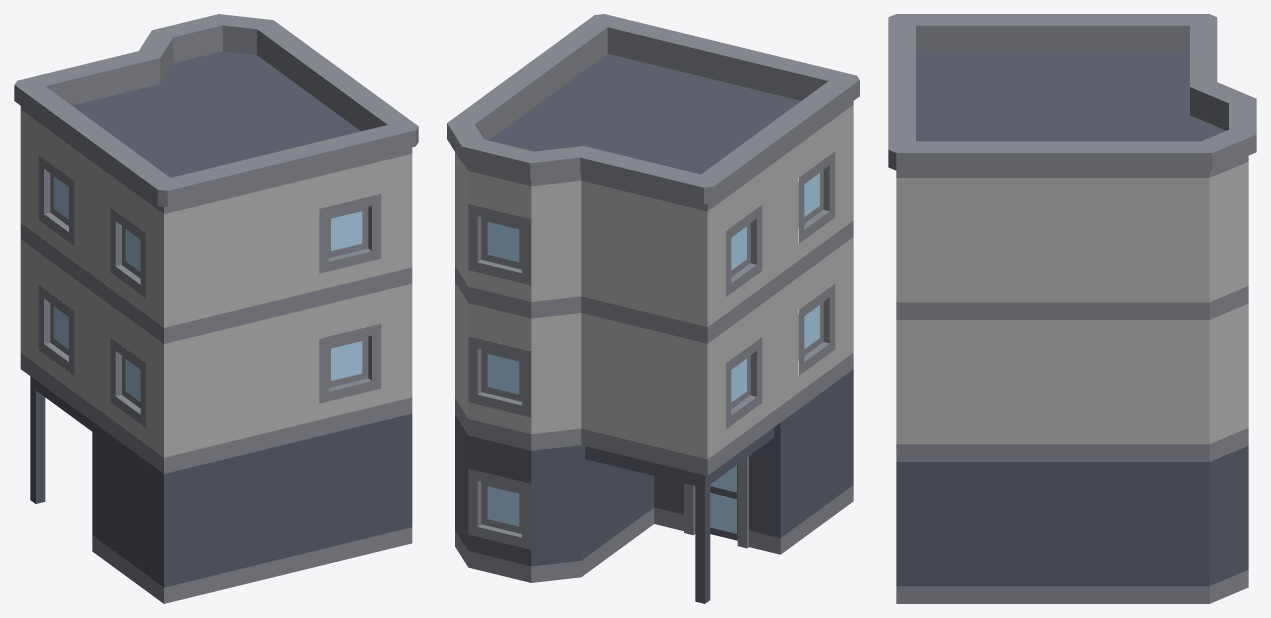
File: small-building.glb
3 views of the same model, side by side, from view 1: azimuth 30°, elevation 25°; view 2: azimuth 150°, elevation 25°; view 3: azimuth 270°, elevation 25° (orthographic). The views are drawn at different scales.
Parts seen in each view (by area): view 1: small_buildingC; view 2: small_buildingC; view 3: small_buildingC.
Part boxes in pixels (<box>): small_buildingC: <box>14,14,418,603</box>; small_buildingC: <box>447,14,859,603</box>; small_buildingC: <box>888,14,1256,603</box>.
Size of the model in its own units: 0.84 by 1.28 by 0.94.
